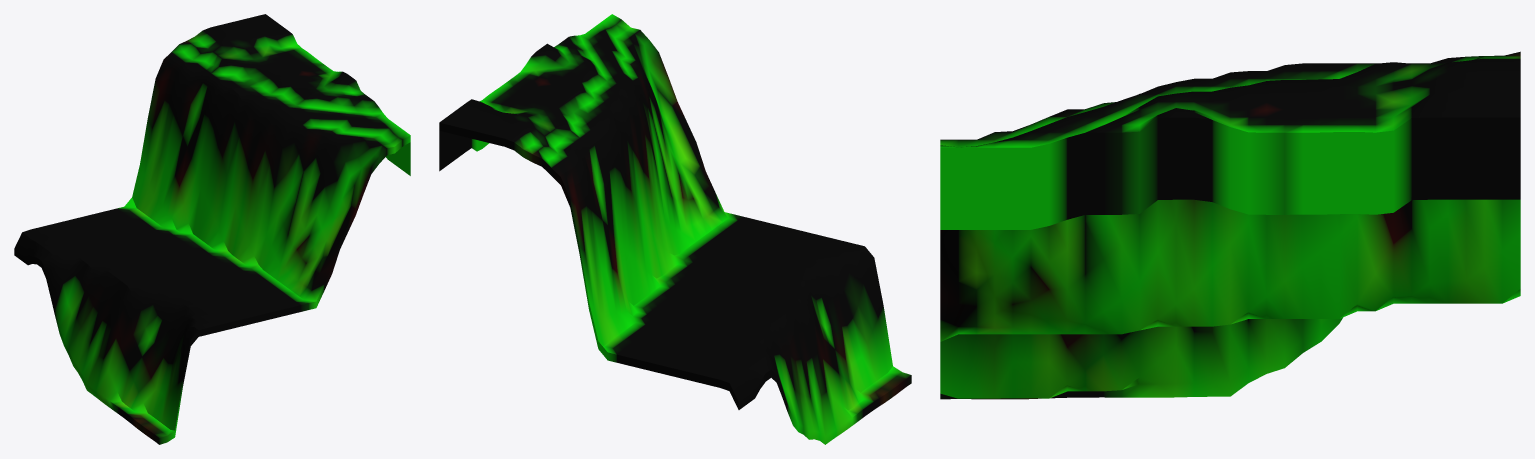
Rendered from Terrain_03_00.fbx.
The picture shows the model from 3 angles, left to right: view 1: azimuth 30°, elevation 25°; view 2: azimuth 150°, elevation 25°; view 3: azimuth 270°, elevation 25°; orthographic projection. The views are drawn at different scales.
Parts seen in each view (by area): view 1: Terrain_03_00_LOD0; view 2: Terrain_03_00_LOD0; view 3: Terrain_03_00_LOD0.
Part boxes in pixels (box(x1,y1,x2,y2)): Terrain_03_00_LOD0: box(14, 14, 410, 444); Terrain_03_00_LOD0: box(439, 14, 911, 444); Terrain_03_00_LOD0: box(940, 51, 1520, 399).
Size of what is drawn, in the model's own units: 384 by 385 by 384.
